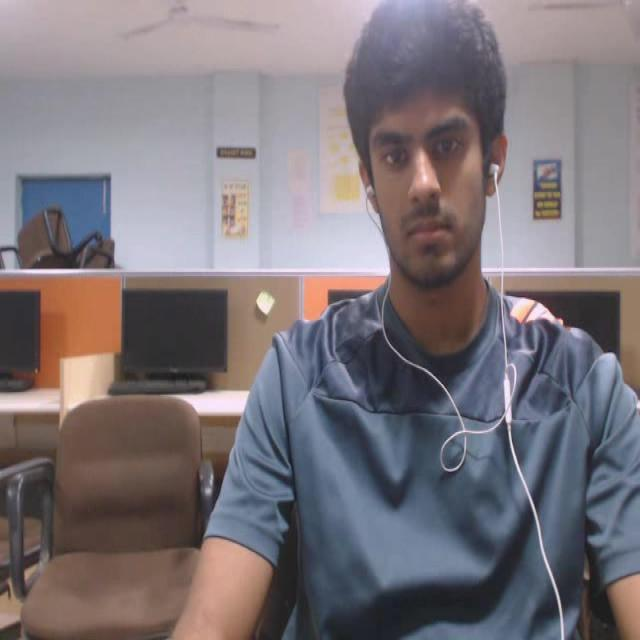Engaged: (336, 0, 536, 305)
